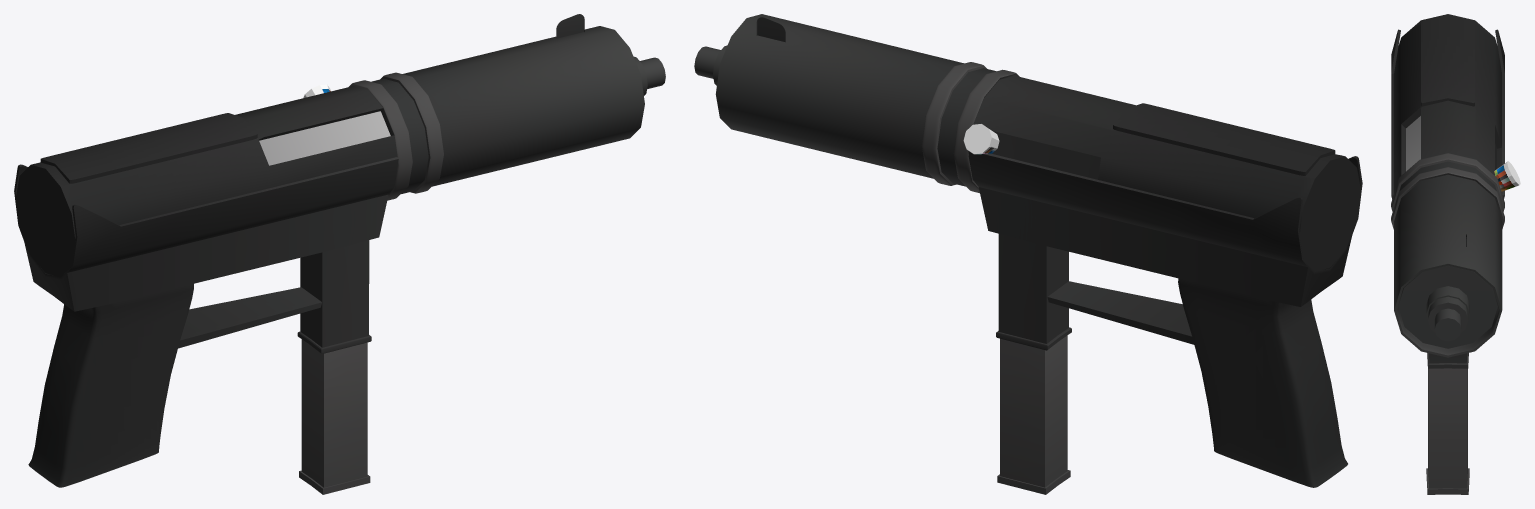
The model's file is TEC9.fbx.
3 views of the same model, side by side, from view 1: azimuth 30°, elevation 25°; view 2: azimuth 150°, elevation 25°; view 3: azimuth 270°, elevation 25° (orthographic). The views are drawn at different scales.
Visible parts, largest first — view 1: Cylinder; view 2: Cylinder; view 3: Cylinder.
Part boxes in pixels (left/top/right/bottom): Cylinder: left=14, top=14, right=665, bottom=494; Cylinder: left=694, top=14, right=1362, bottom=494; Cylinder: left=1391, top=14, right=1520, bottom=494.
Bounding box in the file's own units: 115 × 70.87 × 23.37.
